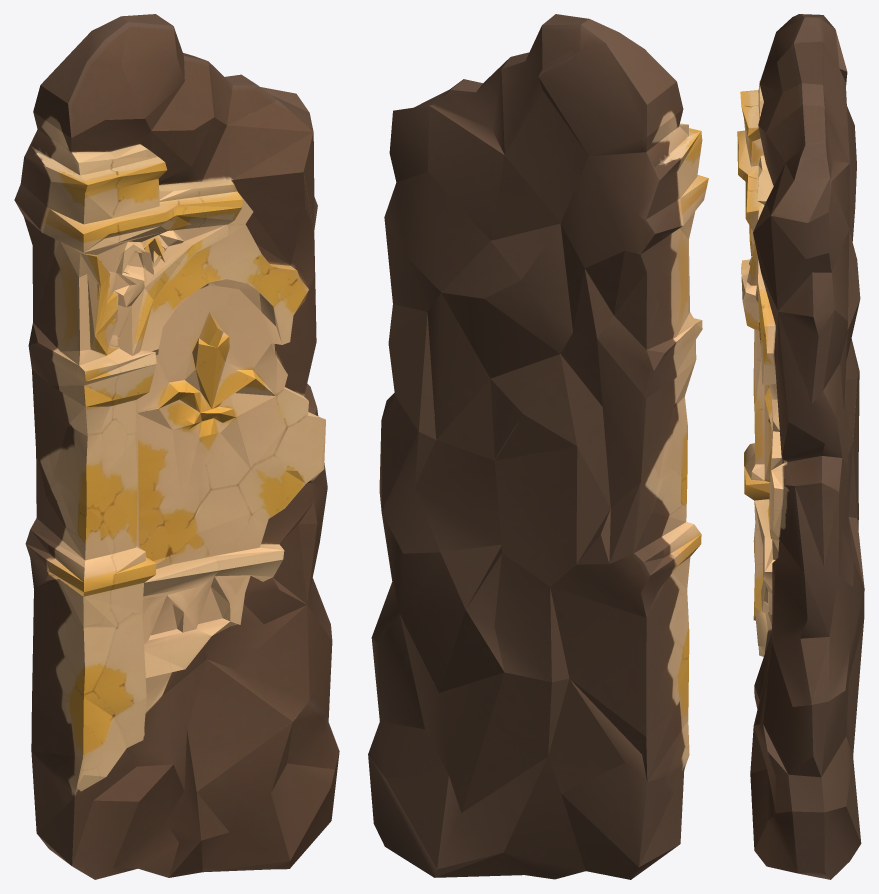
The model's file is TWN_WAL_cavern_gilded_A.glb.
3 views of the same model, side by side, from view 1: azimuth 30°, elevation 25°; view 2: azimuth 150°, elevation 25°; view 3: azimuth 270°, elevation 25° (orthographic). The views are drawn at different scales.
Visible parts, largest first — view 1: Mesh_0; view 2: Mesh_0; view 3: Mesh_0.
Boxes of the visible parts, x1,y1,x2,y2 form: Mesh_0: (14, 14, 339, 879); Mesh_0: (368, 14, 708, 879); Mesh_0: (737, 14, 864, 879).
Bounding box in the file's own units: 0.6838 × 1.9 × 0.2775.
1 material, 1 textured.
